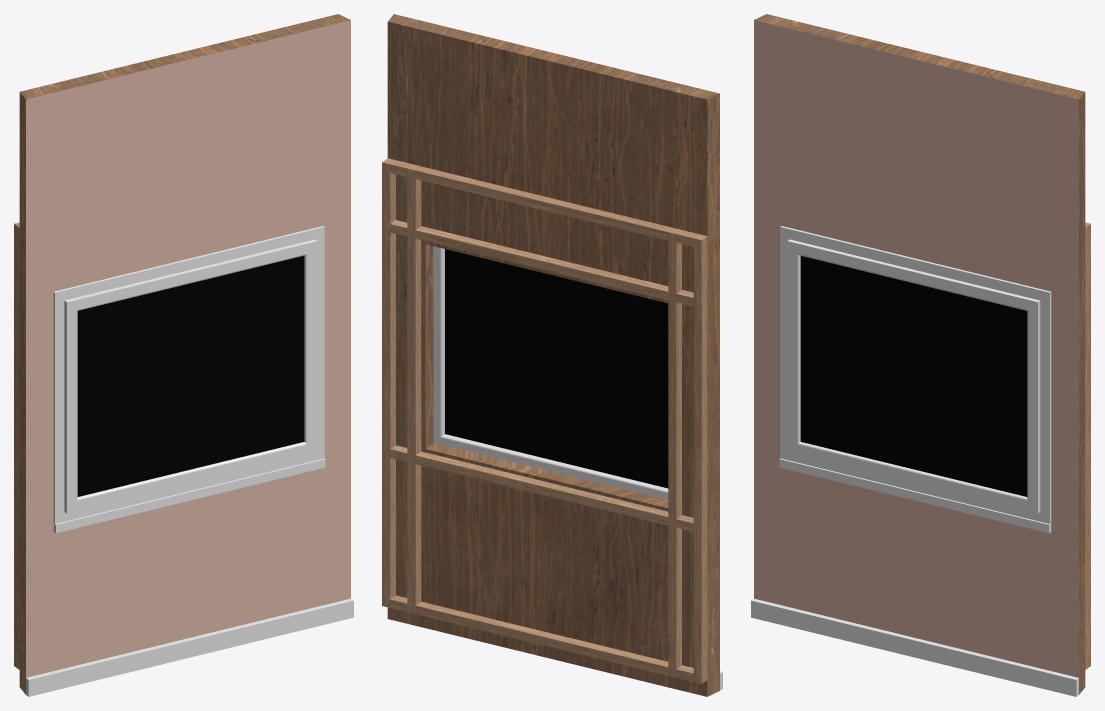
The model's file is MovieSet_WallWindow_02.fbx.
The picture shows the model from 3 angles, left to right: view 1: azimuth 30°, elevation 25°; view 2: azimuth 150°, elevation 25°; view 3: azimuth 330°, elevation 25°; orthographic projection.
Visible parts, largest first — view 1: MovieSet_Wall_Window_02; view 2: MovieSet_Wall_Window_02; view 3: MovieSet_Wall_Window_02.
Part boxes in pixels (box(x1,y1,x2,y2)): MovieSet_Wall_Window_02: box(14, 14, 353, 696); MovieSet_Wall_Window_02: box(382, 14, 722, 696); MovieSet_Wall_Window_02: box(751, 14, 1090, 696).
Size of the model in its own units: 2 by 3.5 by 0.2.
